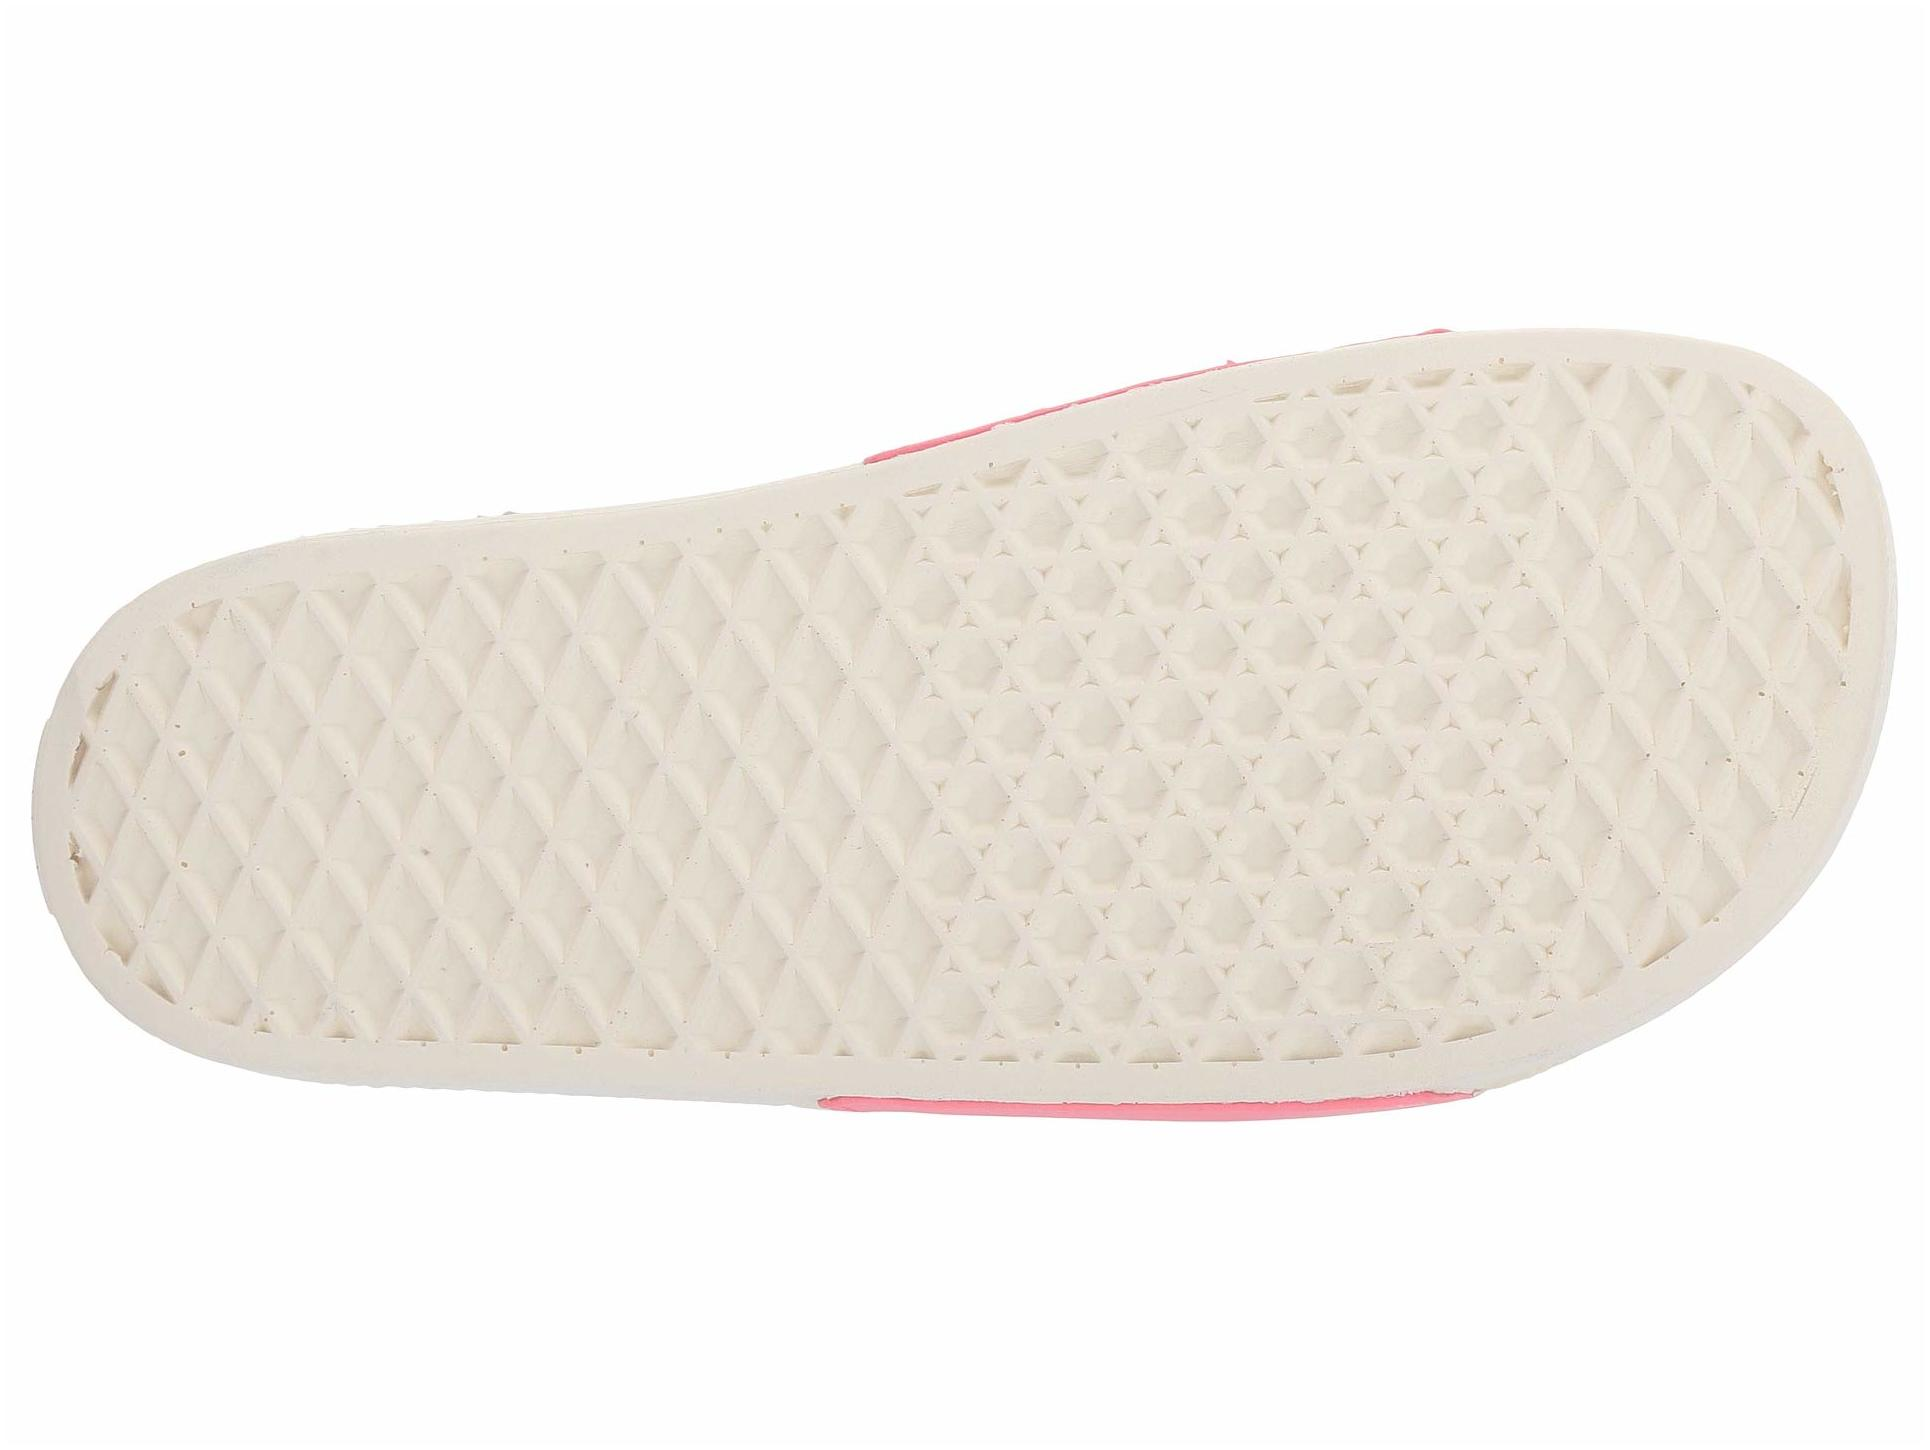polygon: (981, 638, 1398, 1051)
quad: (355, 609, 839, 1027), (1612, 474, 1874, 717)
star: (981, 638, 1398, 1051)
triangle: (981, 638, 1398, 1051)
